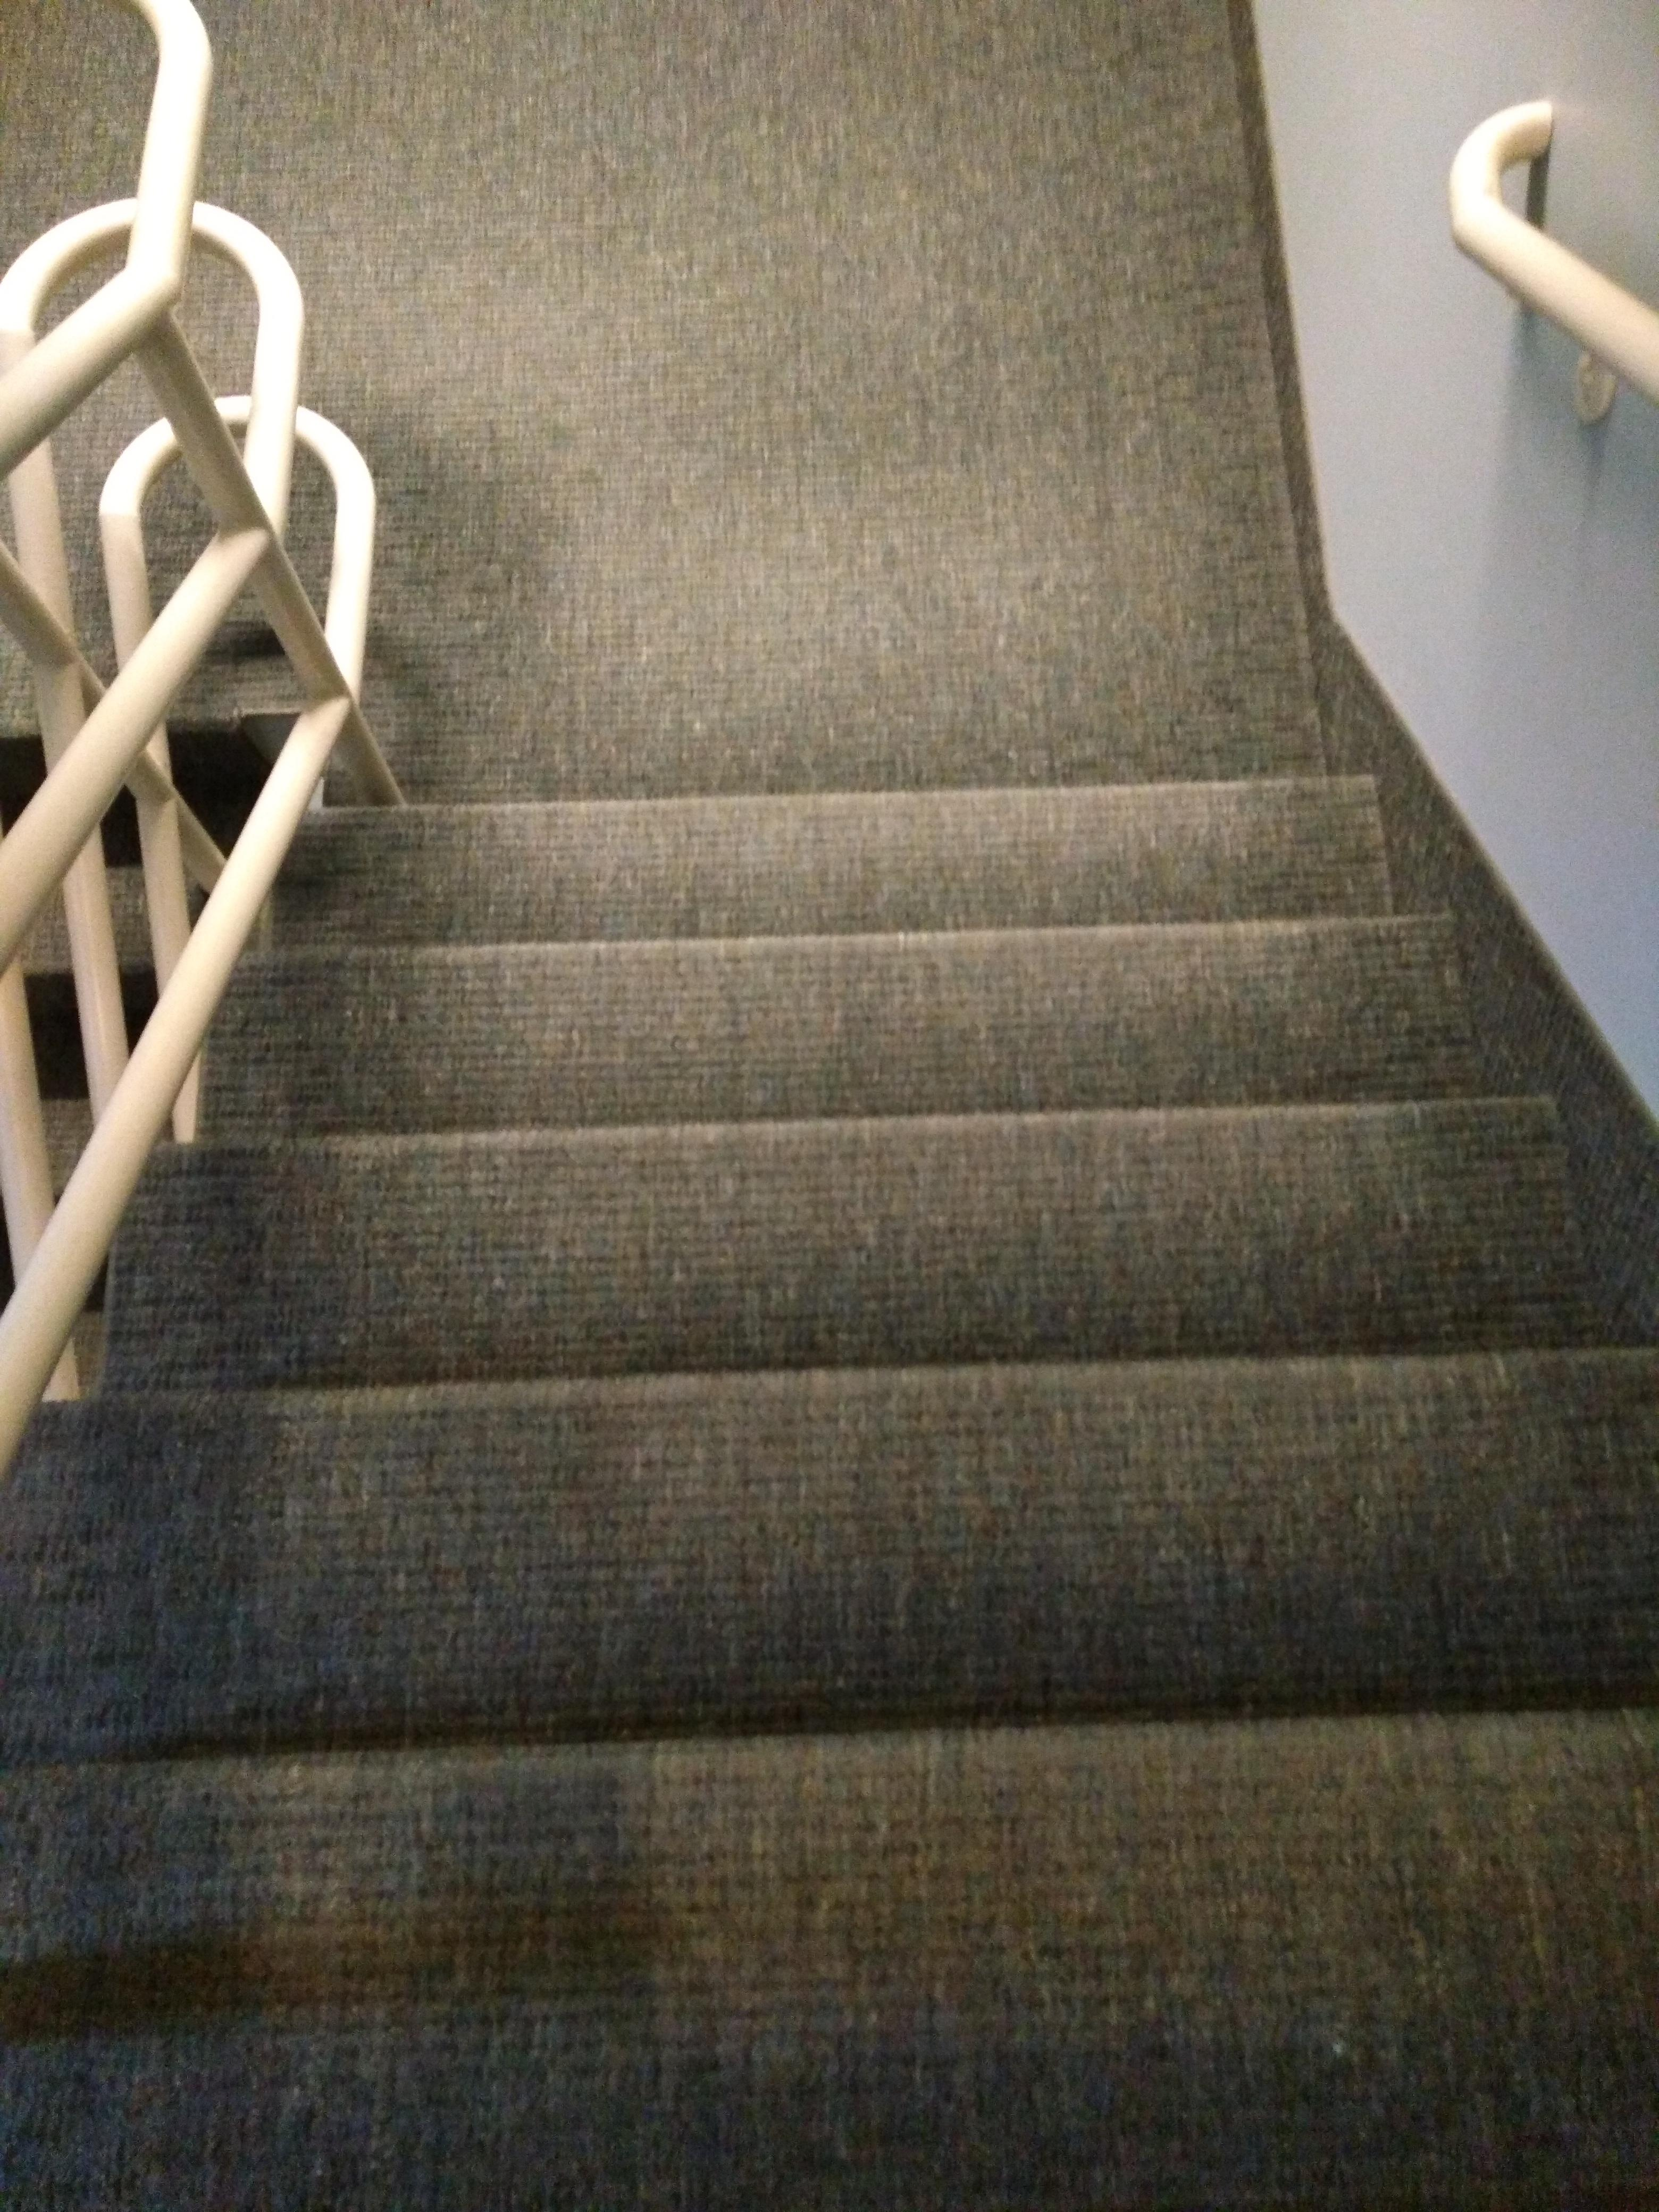stairs_down: (186, 641, 1504, 2012)
